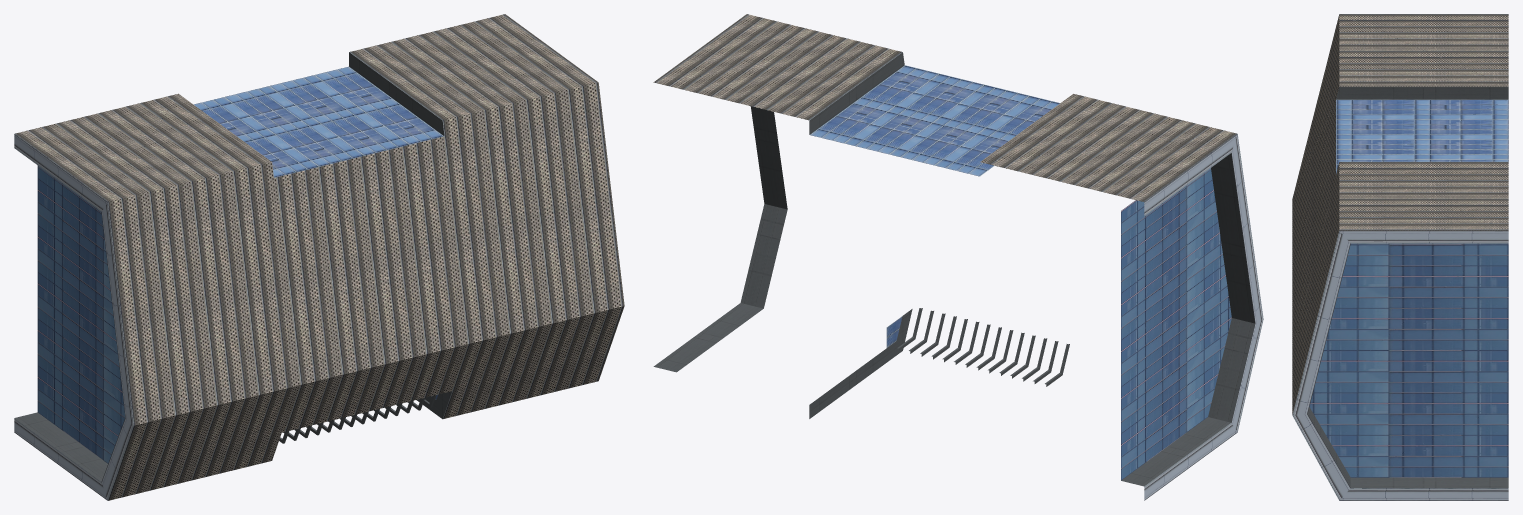
File: sgyh5.gltf
The picture shows the model from 3 angles, left to right: view 1: azimuth 30°, elevation 25°; view 2: azimuth 150°, elevation 25°; view 3: azimuth 270°, elevation 25°; orthographic projection. The views are drawn at different scales.
Visible parts, largest first — view 1: 对象048; view 2: 对象048; view 3: 对象048.
Part boxes in pixels (<box>): 对象048: <box>14,14,624,500</box>; 对象048: <box>653,14,1263,500</box>; 对象048: <box>1292,14,1508,500</box>.
Size of the model in its own units: 53.24 by 30.97 by 22.44.
Materials: 5 (5 with a texture image).
